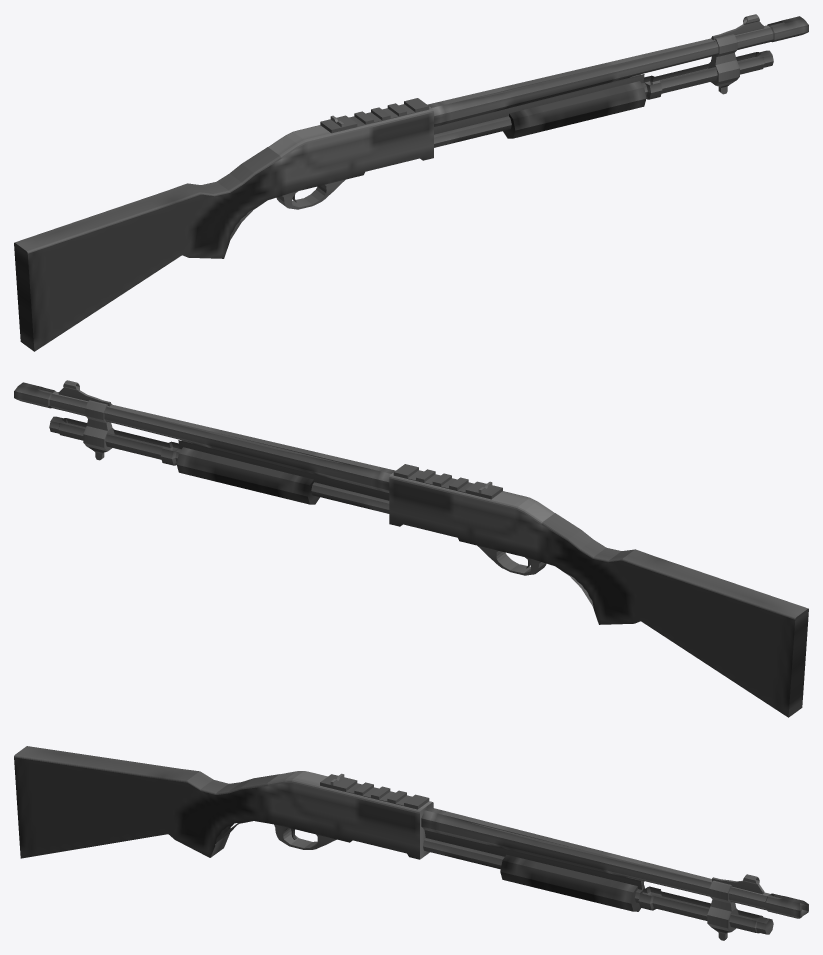
The model's file is Pump Action.fbx.
The picture shows the model from 3 angles, top to bottom: view 1: azimuth 30°, elevation 25°; view 2: azimuth 150°, elevation 25°; view 3: azimuth 330°, elevation 25°; orthographic projection.
Visible parts, largest first — view 1: Upper, Pump; view 2: Upper, Pump; view 3: Upper, Pump.
Boxes of the visible parts, <box> form: Upper: <box>14,14,808,351</box>; Pump: <box>503,81,646,138</box>; Upper: <box>14,380,808,717</box>; Pump: <box>176,447,319,504</box>; Upper: <box>14,746,808,940</box>; Pump: <box>500,854,644,911</box>.
Size of the model in its own units: 493 by 92.79 by 16.37.
Materials: 1 (1 with a texture image).
